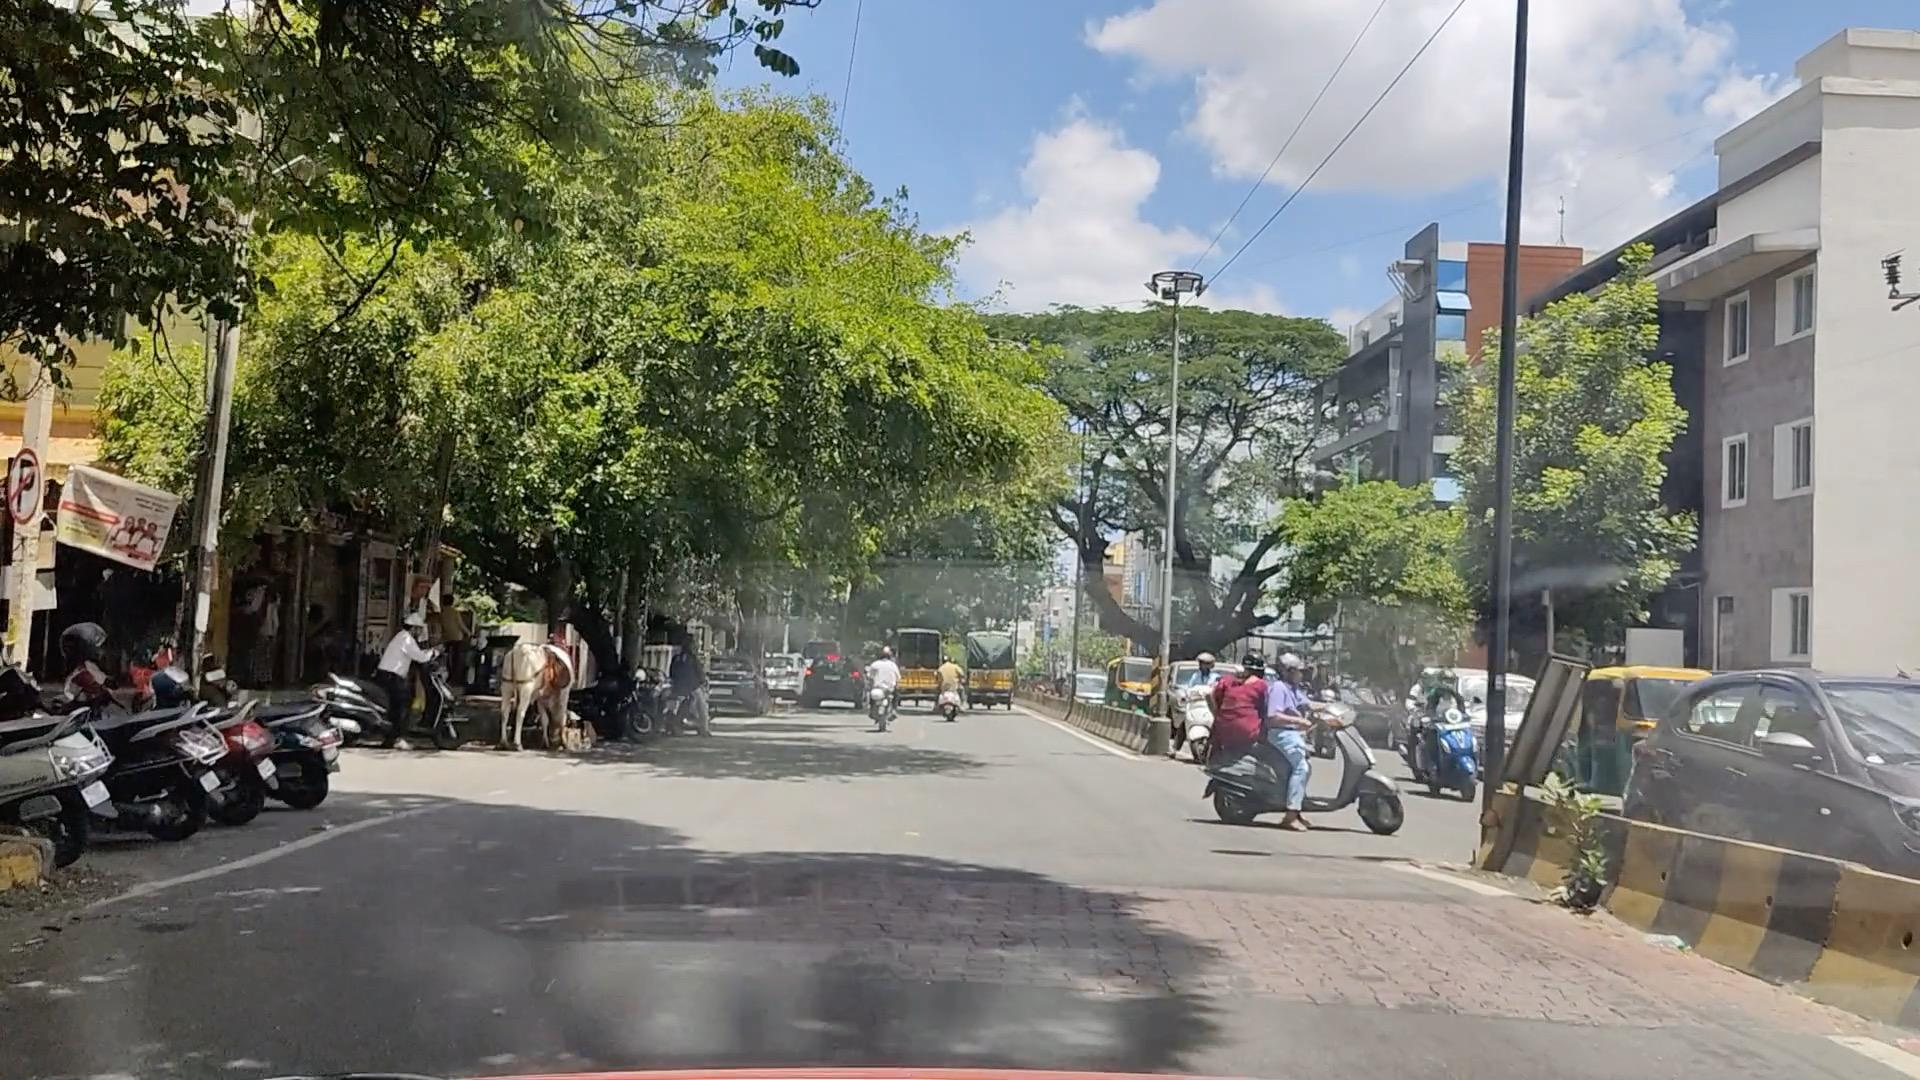LMV: (1207, 650, 1381, 822)
